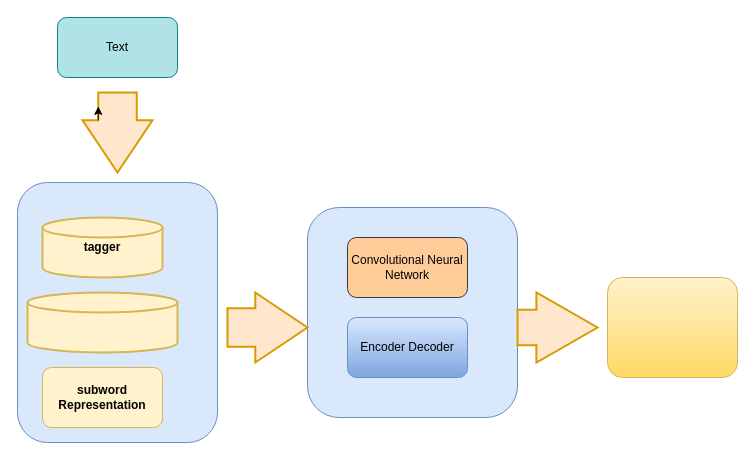
The diagram is 755 pixels wide and 460 high, and some of its shapes have lost their labels. The shapes that lost their labels are listed below. From the top down, each one's centre as x and y in pixels, then its label:
(102,322): Biomedical Annotator
(672,327): Ranked Kewords
